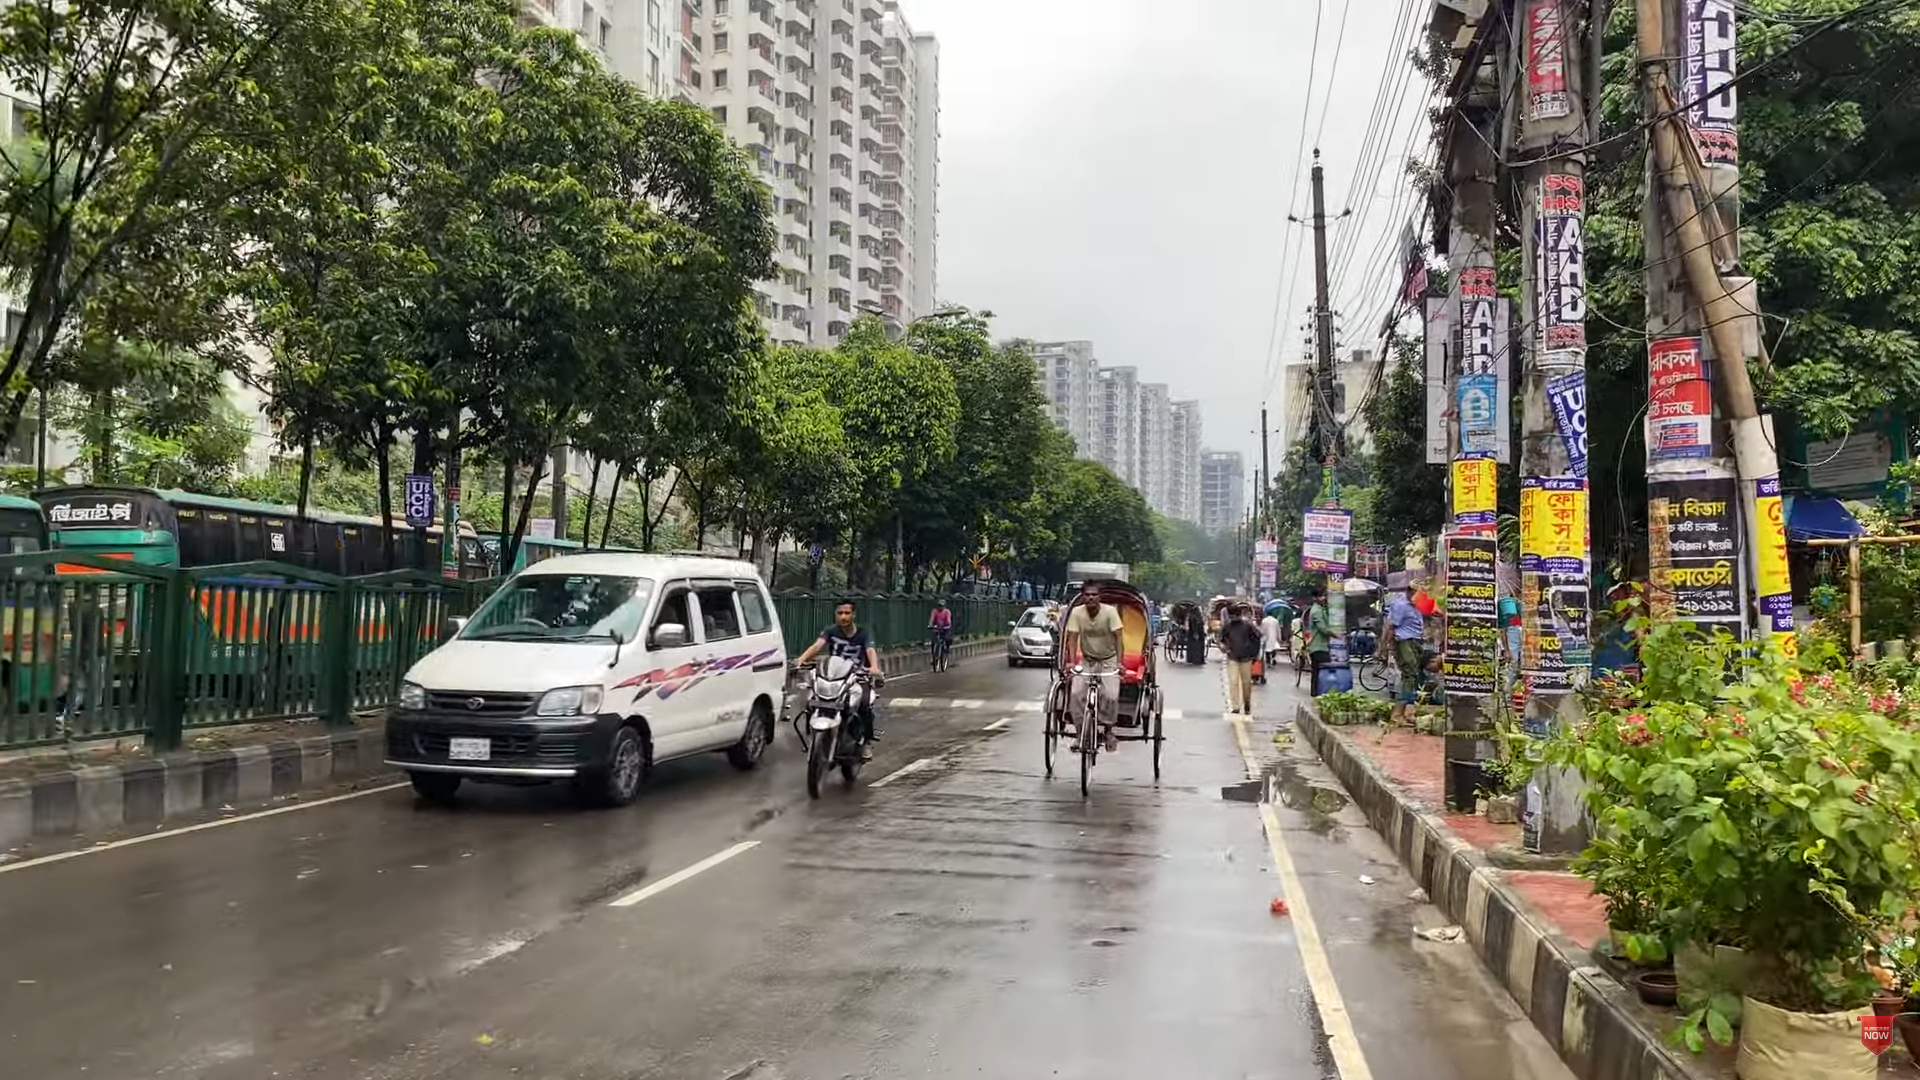Car: (375, 546, 789, 804)
Motorcycle: (793, 597, 890, 800)
Rickshaw: (1017, 570, 1191, 807)
